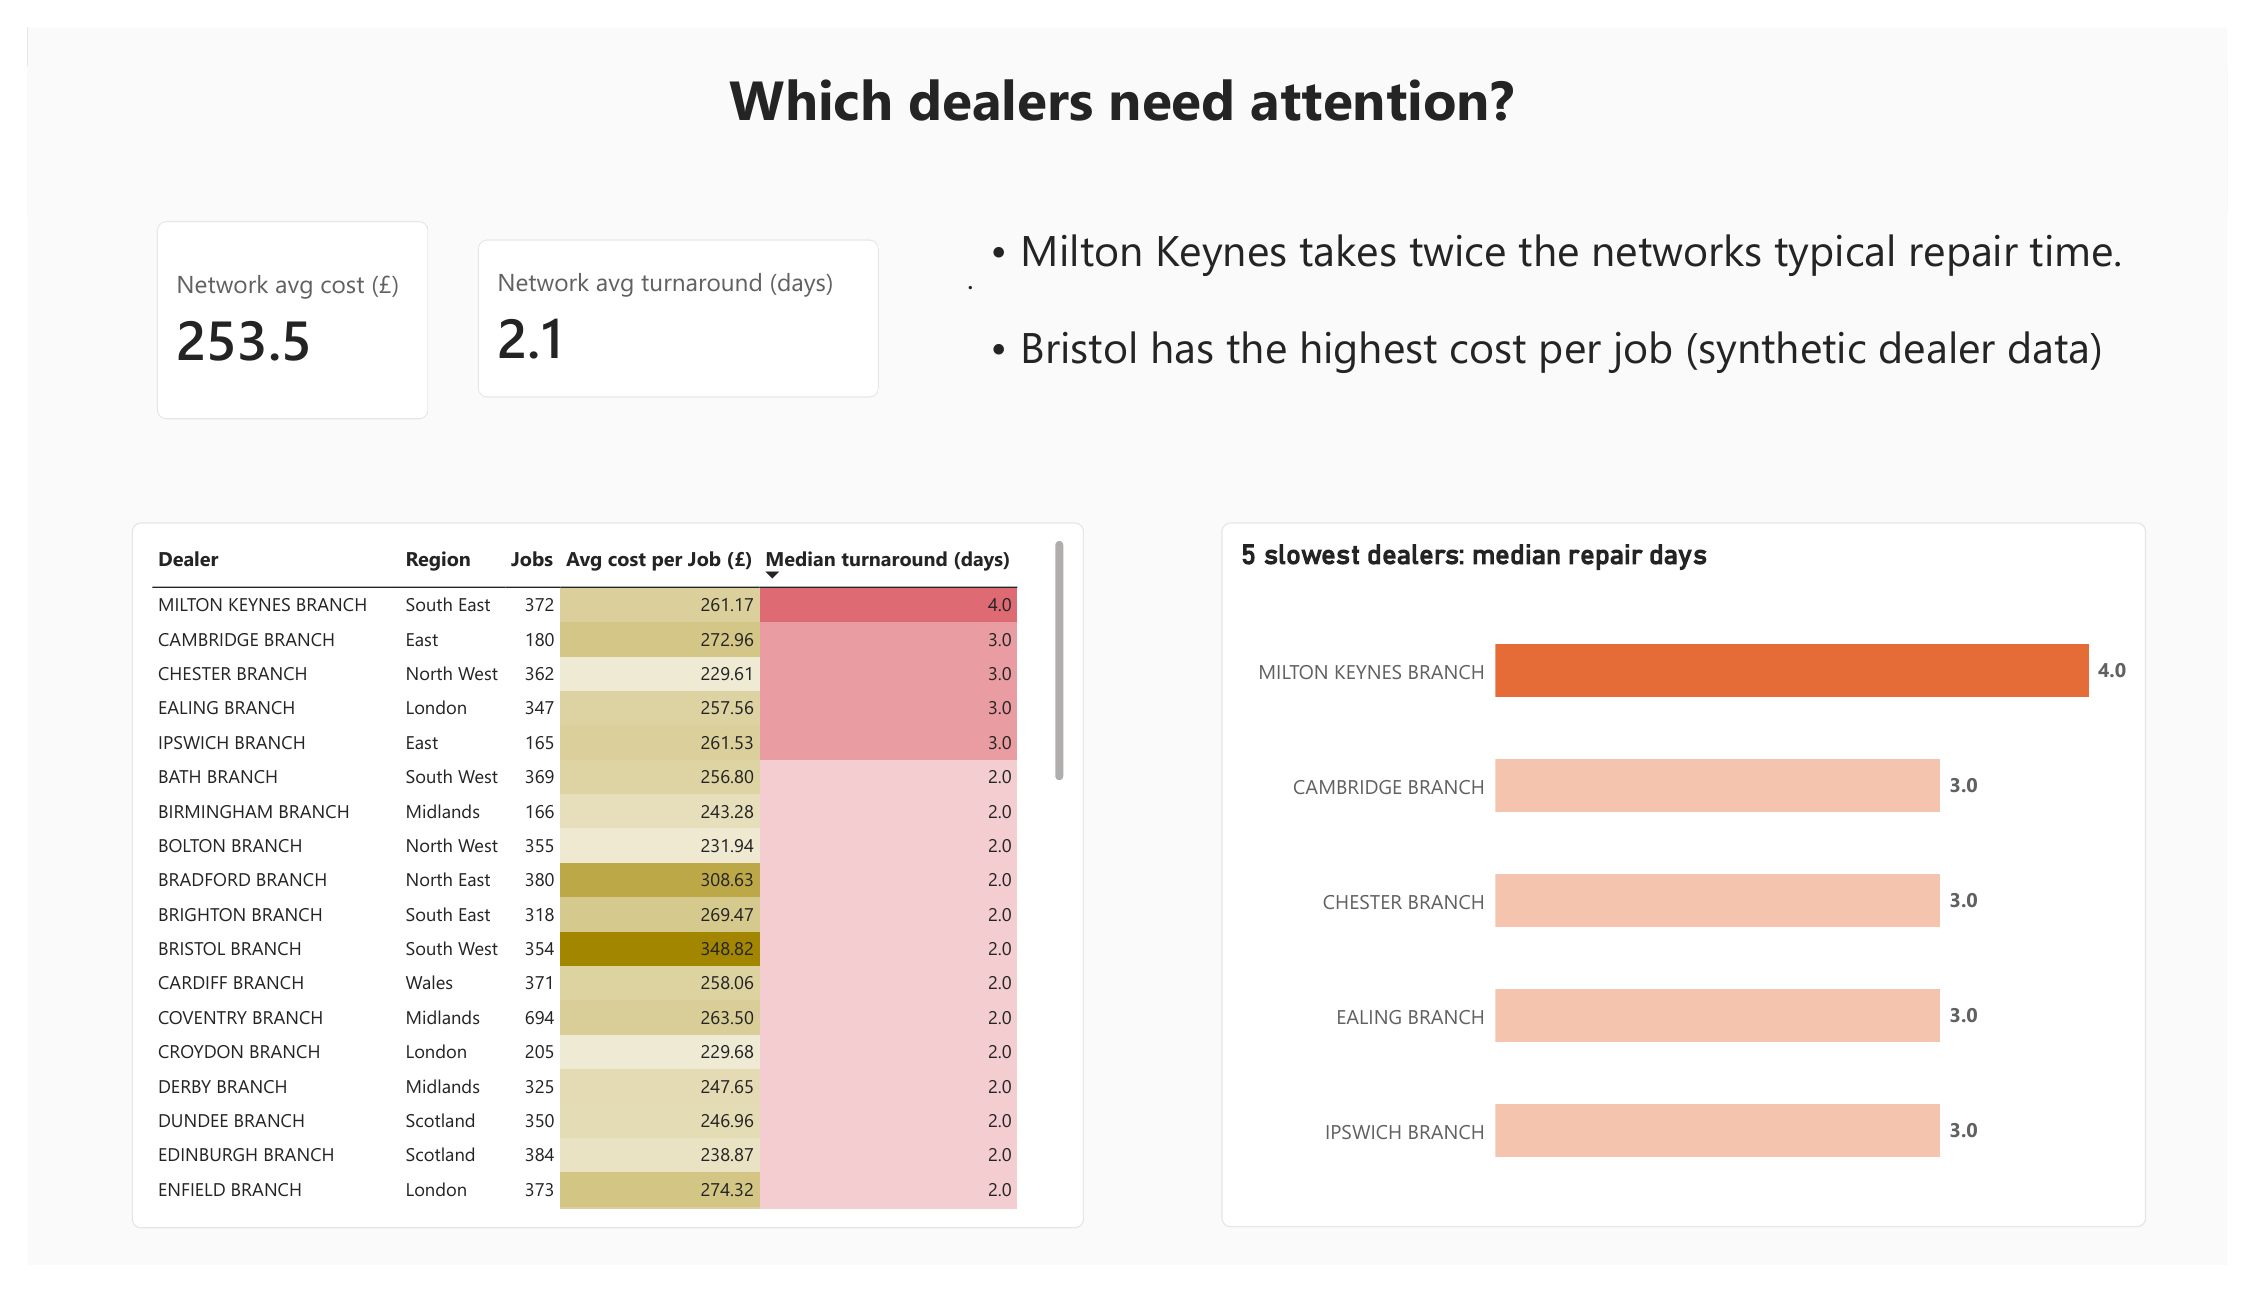

This screenshot's page, from the dashboard's own definition file:
{"tool":"powerbi","page":{"name":"Dealers","canvas":[1920,1080],"ordinal":2},"visuals":[{"type":"textbox","box":[613.4,28.8,806.9,111.1],"z":0},{"type":"cardVisual","fields":{"Data":["dealer_scorecard.Network avg turnaround (days)"]},"box":[393.1,185.2,349.9,137.9],"z":1},{"type":"cardVisual","fields":{"Data":["dealer_scorecard.Network avg cost (£)"]},"box":[113.2,168.8,236.7,172.9],"z":2},{"type":"tableEx","fields":{"Values":["dealer_scorecard.dealer_name","dealer_scorecard.region","Sum(dealer_scorecard.total_jobs)","Avg(dealer_scorecard.avg_cost_per_job_gbp)","Avg(dealer_scorecard.median_turnaround_days)"]},"box":[90.6,432.2,831.6,615.4],"z":3},{"type":"clusteredBarChart","title":"5 slowest dealers: median repair days","fields":{"Category":["dealer_scorecard.dealer_name"],"Y":["Avg(dealer_scorecard.median_turnaround_days)"]},"box":[1041.5,432.2,807,615],"z":4},{"type":"textbox","box":[811,168.8,1037.4,207.9],"z":5}]}

Visuals, with their boxes in screenshot pixels (x1, y1, x2, y2), scaled from the page's 1920x1080 canvas onto the 2255x1293 screenshot:
textbox: {"left": 720, "top": 34, "right": 1668, "bottom": 167}
cardVisual - dealer_scorecard.Network avg turnaround (days): {"left": 462, "top": 222, "right": 873, "bottom": 387}
cardVisual - dealer_scorecard.Network avg cost (£): {"left": 133, "top": 202, "right": 411, "bottom": 409}
tableEx - dealer_scorecard.dealer_name x dealer_scorecard.region: {"left": 106, "top": 517, "right": 1083, "bottom": 1254}
"5 slowest dealers: median repair days" clusteredBarChart: {"left": 1223, "top": 517, "right": 2171, "bottom": 1254}
textbox: {"left": 953, "top": 202, "right": 2171, "bottom": 451}
